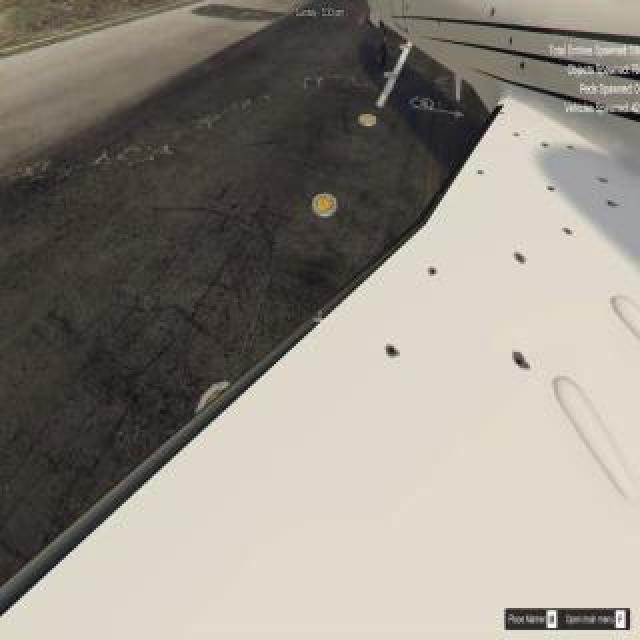crack: (508, 340, 534, 378), (385, 334, 405, 366), (510, 242, 530, 268), (606, 191, 620, 213), (562, 221, 576, 241), (544, 183, 560, 199), (541, 136, 553, 156), (599, 169, 611, 187), (568, 136, 578, 156), (428, 265, 440, 281), (476, 166, 488, 182), (512, 129, 526, 141), (520, 58, 528, 74), (507, 34, 515, 50), (490, 7, 498, 21), (499, 110, 511, 118), (436, 19, 444, 27)
